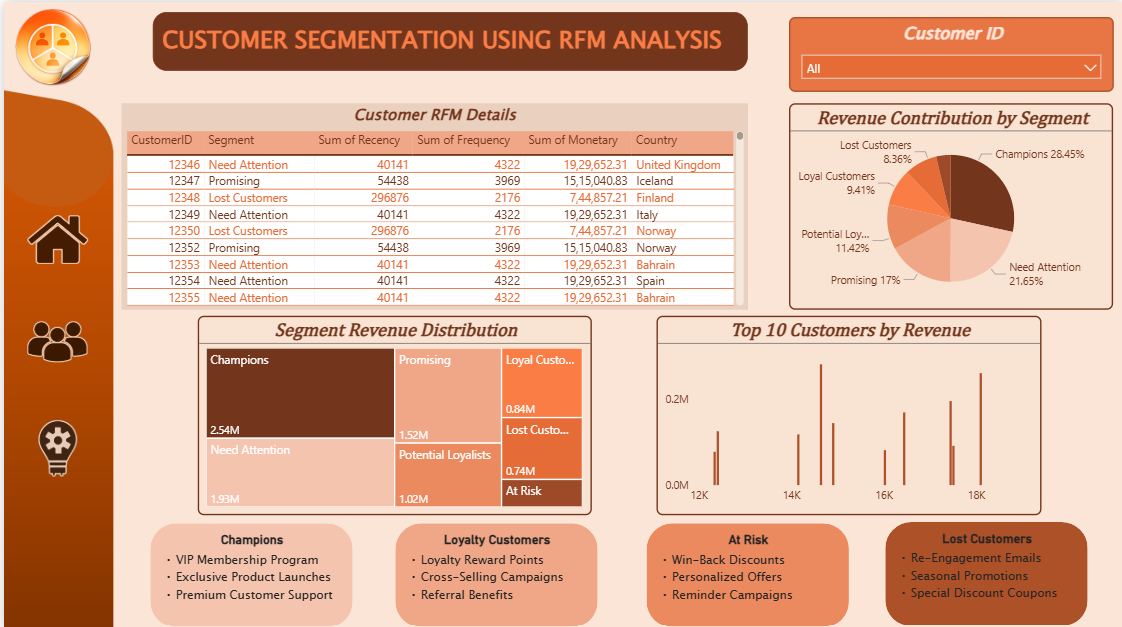

The page's visual inventory and layout, read from the dashboard file:
{"tool":"powerbi","page":{"name":"Customer Insights","canvas":[1280,720],"ordinal":2},"visuals":[{"type":"slicer","title":"Customer ID","fields":{"Values":["data.CustomerID"]},"box":[897.1,17.1,371.4,85.7],"z":0},{"type":"shape","box":[1007.1,594.3,231.5,119.2],"z":0,"group":"g4"},{"type":"shape","box":[166.7,595,231.5,119.2],"z":0,"group":"g1"},{"type":"shape","box":[447.1,595.7,231.5,119.2],"z":0,"group":"g2"},{"type":"shape","box":[734.3,595.7,231.5,119.2],"z":0,"group":"g3"},{"type":"tableEx","title":"Customer RFM Details","fields":{"Values":["data.CustomerID","Customer_RFM.Segment","Sum(Customer_RFM.Recency)","Sum(Customer_RFM.Frequency)","Sum(Customer_RFM.Monetary)","data.Country"]},"box":[134.5,115.3,716.3,236],"z":1000},{"type":"textbox","title":"Lost Customers","box":[1017.9,604.1,209.9,91.9],"z":1000,"group":"g4"},{"type":"textbox","title":"Champions","box":[177.5,604.8,209.9,91.9],"z":1000,"group":"g1"},{"type":"textbox","title":"Loyalty Customers","box":[457.9,605.5,209.9,91.9],"z":1000,"group":"g2"},{"type":"textbox","title":"At Risk","box":[745.1,605.5,209.9,91.9],"z":1000,"group":"g3"},{"type":"clusteredColumnChart","title":"Top 10 Customers by Revenue","fields":{"Category":["Customer_RFM.CustomerID"],"Y":["Sum(Customer_RFM.Monetary)"]},"box":[745,358.3,440,228.3],"z":2000},{"type":"pieChart","title":"Revenue Contribution by Segment","fields":{"Category":["Customer_RFM.Segment"],"Y":["Sum(Customer_RFM.Monetary)"]},"box":[897.4,115.3,370.5,236],"z":3000},{"type":"treemap","title":"Segment Revenue Distribution","fields":{"Group":["Customer_RFM.Segment"],"Values":["Sum(Customer_RFM.Monetary)"]},"box":[221.7,358.3,450,228.3],"z":4000},{"type":"group","id":"g1","title":"Group 1","box":[166.7,595,231.7,120],"z":5000},{"type":"group","id":"g2","title":"Group 1","box":[447.1,595.7,231.4,117.1],"z":6000},{"type":"group","id":"g3","title":"Group 1","box":[734.3,595.7,231.4,118.6],"z":7000},{"type":"group","id":"g4","title":"Group 1","box":[1007.1,594.3,231.4,118.6],"z":8000},{"type":"image","box":[24.3,234.3,74.3,74.3],"z":9000},{"type":"image","box":[23.8,337.5,73.8,102.5],"z":10000},{"type":"image","box":[11.4,475.7,100,68.6],"z":11000},{"type":"image","box":[0,0,111.1,102.2],"z":12000},{"type":"textbox","box":[170,11.4,680,67.1],"z":13000}]}

Visuals, with their boxes in screenshot pixels (x1, y1, x2, y2), scaled from the page's 1280x720 canvas onto the 1122x627 screenshot:
"Customer ID" slicer: x1=786 y1=15 x2=1112 y2=90
shape: x1=883 y1=518 x2=1086 y2=621
shape: x1=146 y1=518 x2=349 y2=622
shape: x1=392 y1=519 x2=595 y2=623
shape: x1=644 y1=519 x2=847 y2=623
"Customer RFM Details" tableEx: x1=118 y1=100 x2=746 y2=306
"Lost Customers" textbox: x1=892 y1=526 x2=1076 y2=606
"Champions" textbox: x1=156 y1=527 x2=340 y2=607
"Loyalty Customers" textbox: x1=401 y1=527 x2=585 y2=607
"At Risk" textbox: x1=653 y1=527 x2=837 y2=607
"Top 10 Customers by Revenue" clusteredColumnChart: x1=653 y1=312 x2=1039 y2=511
"Revenue Contribution by Segment" pieChart: x1=787 y1=100 x2=1111 y2=306
"Segment Revenue Distribution" treemap: x1=194 y1=312 x2=589 y2=511
"Group 1" group: x1=146 y1=518 x2=349 y2=623
"Group 1" group: x1=392 y1=519 x2=595 y2=621
"Group 1" group: x1=644 y1=519 x2=846 y2=622
"Group 1" group: x1=883 y1=518 x2=1086 y2=621
image: x1=21 y1=204 x2=86 y2=269
image: x1=21 y1=294 x2=86 y2=383
image: x1=10 y1=414 x2=98 y2=474
image: x1=0 y1=0 x2=97 y2=89
textbox: x1=149 y1=10 x2=745 y2=68
